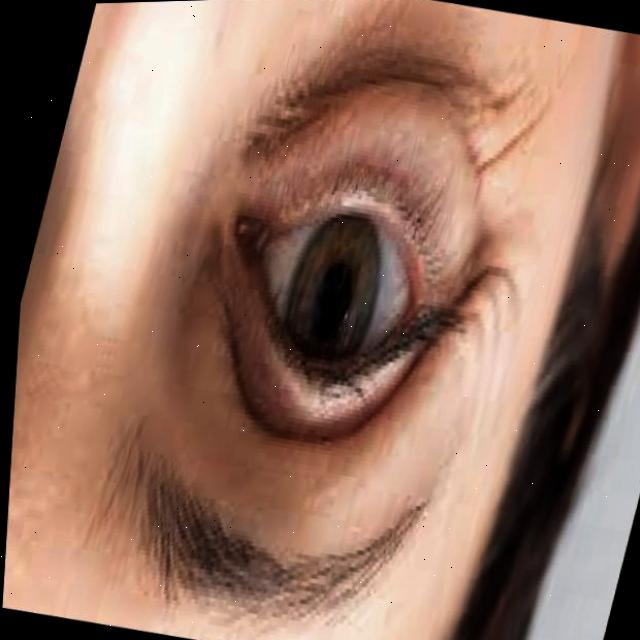puffy_eyes: (219, 0, 522, 259)
